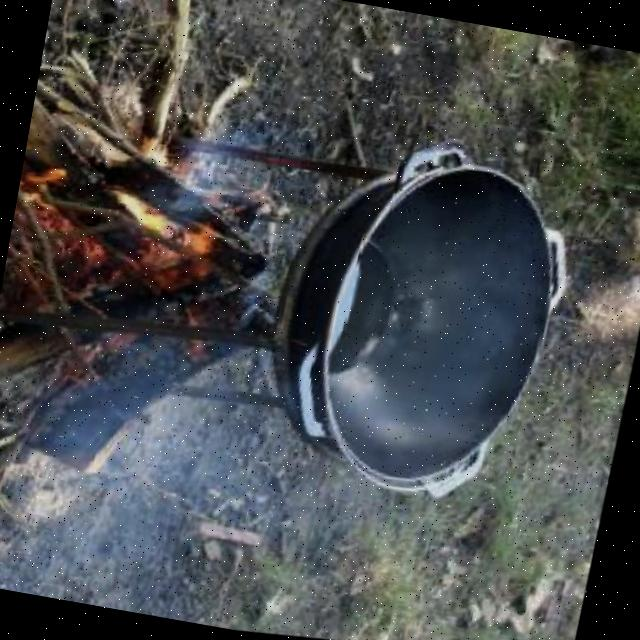fire: (88, 174, 232, 266), (14, 150, 78, 222)
